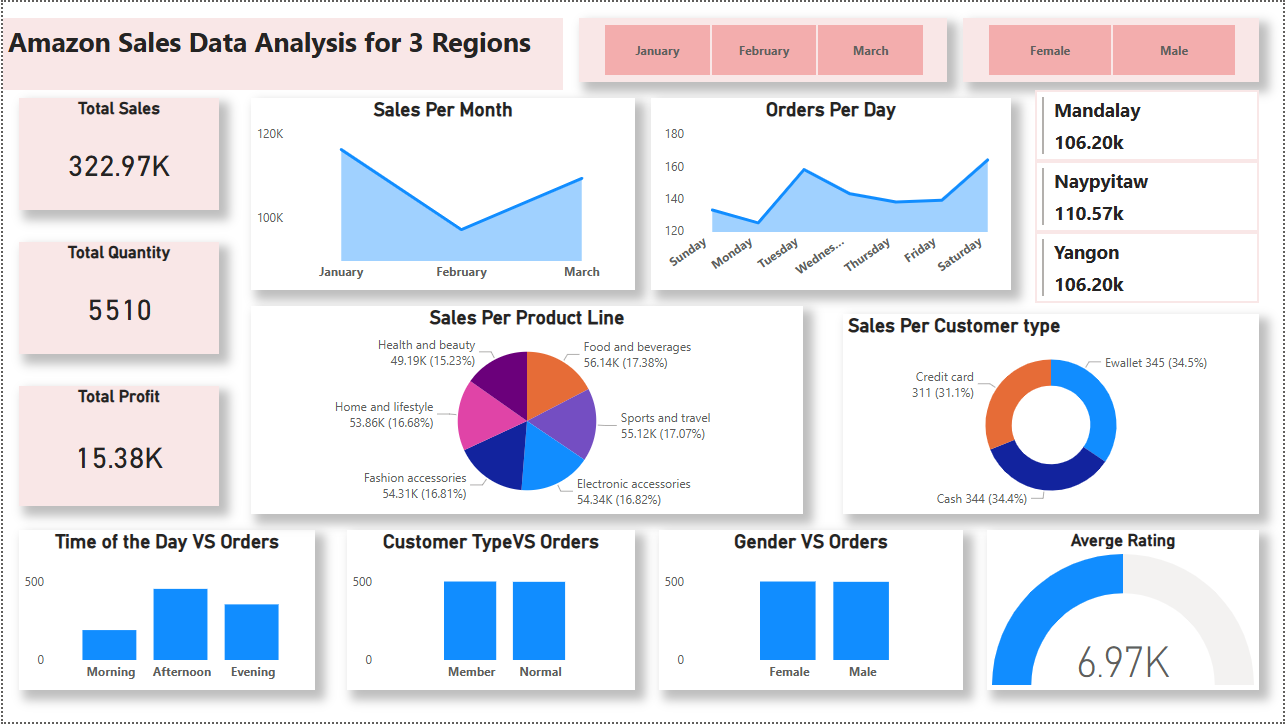

The page's visual inventory and layout, read from the dashboard file:
{"tool":"powerbi","page":{"name":"Page 1","canvas":[1280,720],"ordinal":0},"visuals":[{"type":"textbox","box":[0,16,560,72],"z":0},{"type":"slicer","fields":{"Values":["Amazon data for SQL project.Month Name"]},"box":[576,16,368,64],"z":1000},{"type":"slicer","fields":{"Values":["Amazon data for SQL project.Gender"]},"box":[960,16,296,64],"z":2000},{"type":"multiRowCard","fields":{"Values":["Amazon data for SQL project.City","Amazon data for SQL project.Sales in K"]},"box":[1032,88,224,216],"z":3000},{"type":"card","title":"Total Sales","fields":{"Values":["Sum(Amazon data for SQL project.Total)"]},"box":[16,96,200,112],"z":4000},{"type":"card","title":"Total Quantity","fields":{"Values":["Sum(Amazon data for SQL project.Quantity)"]},"box":[16,240,200,112],"z":5000},{"type":"card","title":"Total Profit","fields":{"Values":["Amazon data for SQL project.Total Profit"]},"box":[16,384,200,120],"z":6000},{"type":"areaChart","title":"Sales Per Month","fields":{"Category":["Amazon data for SQL project.Month Name"],"Y":["Sum(Amazon data for SQL project.Total)"]},"box":[248,96,384,192],"z":7000},{"type":"areaChart","title":"Orders   Per Day","fields":{"Category":["Amazon data for SQL project.Day Name"],"Y":["CountNonNull(Amazon data for SQL project.Invoice ID)"]},"box":[648,96,360,192],"z":8000},{"type":"columnChart","title":"Time of the Day VS Orders","fields":{"Category":["Amazon data for SQL project.Time of the day"],"Y":["CountNonNull(Amazon data for SQL project.Invoice ID)"]},"box":[16,528,296,160],"z":9000},{"type":"pieChart","title":"Sales Per Product Line","fields":{"Category":["Amazon data for SQL project.Product line"],"Y":["Sum(Amazon data for SQL project.Total)"]},"box":[248,304,552,208],"z":10000},{"type":"donutChart","title":"Sales Per Customer type","fields":{"Y":["CountNonNull(Amazon data for SQL project.Invoice ID)"],"Category":["Amazon data for SQL project.Payment"]},"box":[840,312,416,200],"z":11000},{"type":"gauge","title":"Averge Rating","fields":{"Y":["Sum(Amazon data for SQL project.Rating)"]},"box":[984,528,272,160],"z":12000},{"type":"columnChart","title":"Customer TypeVS Orders","fields":{"Y":["CountNonNull(Amazon data for SQL project.Invoice ID)"],"Category":["Amazon data for SQL project.Customer type"]},"box":[344,528,288,160],"z":12001},{"type":"columnChart","title":"Gender VS Orders","fields":{"Y":["CountNonNull(Amazon data for SQL project.Invoice ID)"],"Category":["Amazon data for SQL project.Gender"]},"box":[656,528,304,160],"z":12002}]}

Visuals, with their boxes in screenshot pixels (x1, y1, x2, y2), scaled from the page's 1280x720 canvas onto the 1285x726 screenshot:
textbox: <region>0, 16, 562, 89</region>
slicer - Amazon data for SQL project.Month Name: <region>578, 16, 948, 81</region>
slicer - Amazon data for SQL project.Gender: <region>964, 16, 1261, 81</region>
multiRowCard - Amazon data for SQL project.City x Amazon data for SQL project.Sales in K: <region>1036, 89, 1261, 307</region>
"Total Sales" card: <region>16, 97, 217, 210</region>
"Total Quantity" card: <region>16, 242, 217, 355</region>
"Total Profit" card: <region>16, 387, 217, 508</region>
"Sales Per Month" areaChart: <region>249, 97, 634, 290</region>
"Orders   Per Day" areaChart: <region>651, 97, 1012, 290</region>
"Time of the Day VS Orders" columnChart: <region>16, 532, 313, 694</region>
"Sales Per Product Line" pieChart: <region>249, 307, 803, 516</region>
"Sales Per Customer type" donutChart: <region>843, 315, 1261, 516</region>
"Averge Rating" gauge: <region>988, 532, 1261, 694</region>
"Customer TypeVS Orders" columnChart: <region>345, 532, 634, 694</region>
"Gender VS Orders" columnChart: <region>659, 532, 964, 694</region>
